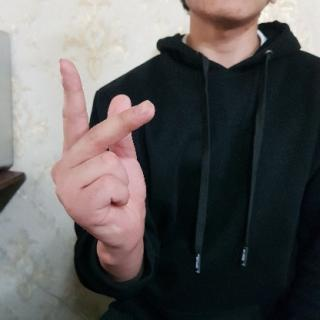DHAA: (46, 53, 172, 258)
